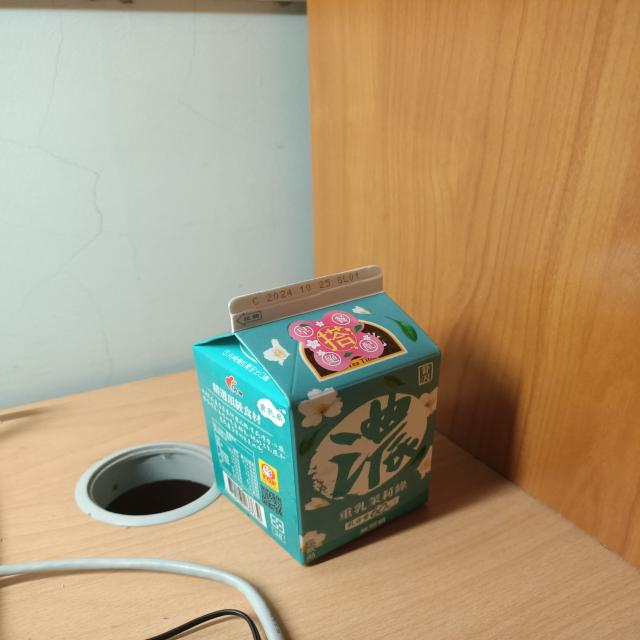Known_MilkGreenTea: (190, 268, 460, 564)
